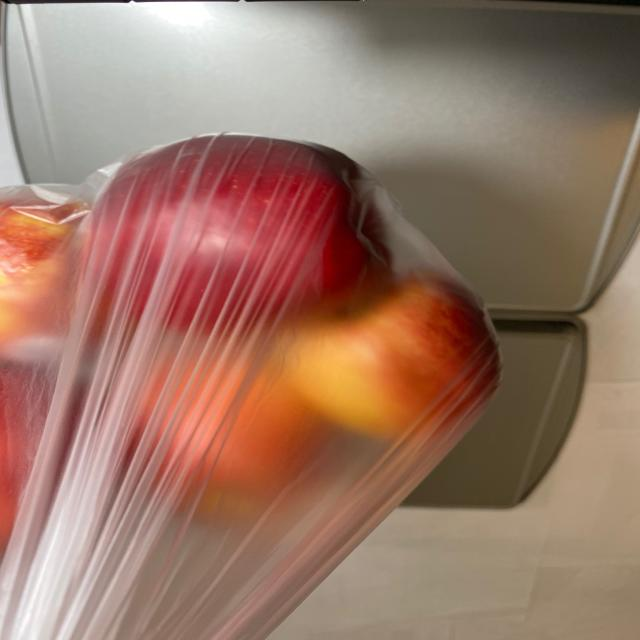apple: (0, 129, 500, 553)
